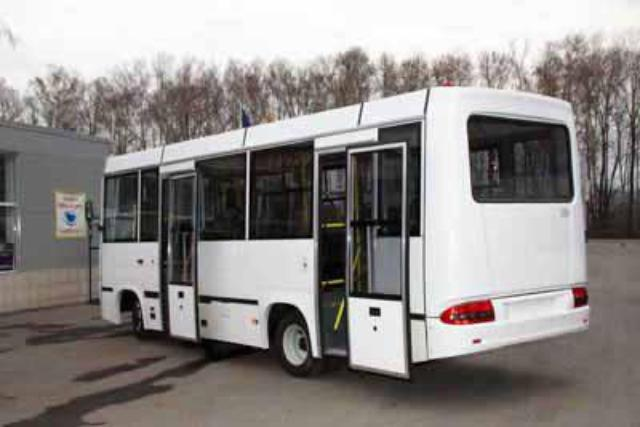bus: (96, 82, 597, 387)
